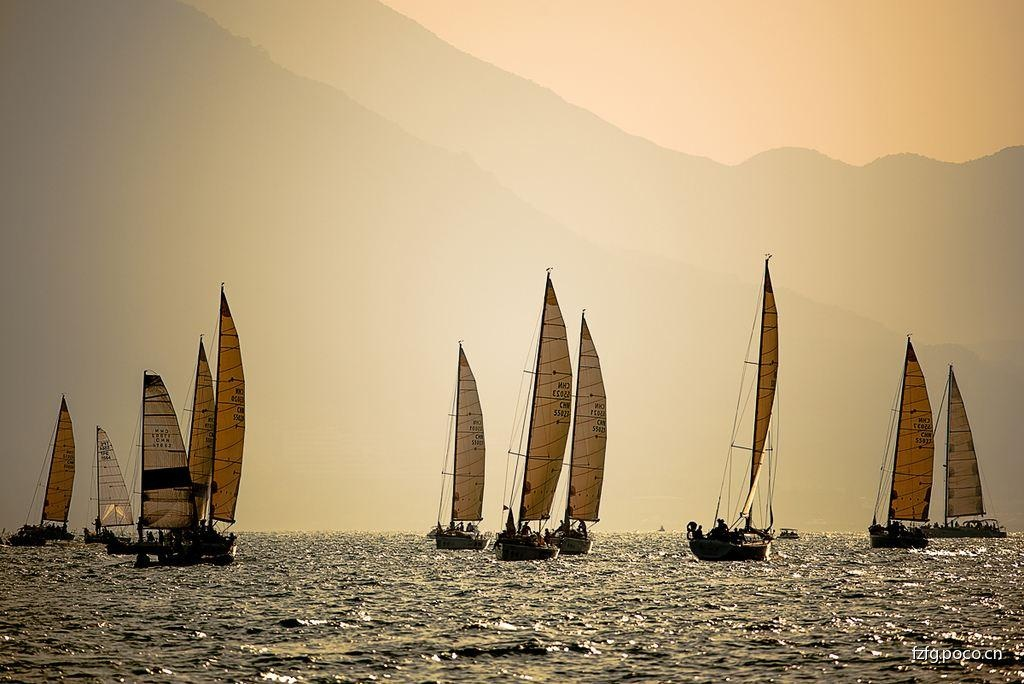fanchuan: (124, 277, 267, 574), (682, 249, 801, 562), (491, 261, 575, 565), (552, 305, 637, 555), (427, 339, 502, 552), (865, 331, 935, 552), (936, 363, 1008, 540), (5, 392, 81, 548), (84, 419, 134, 547)
